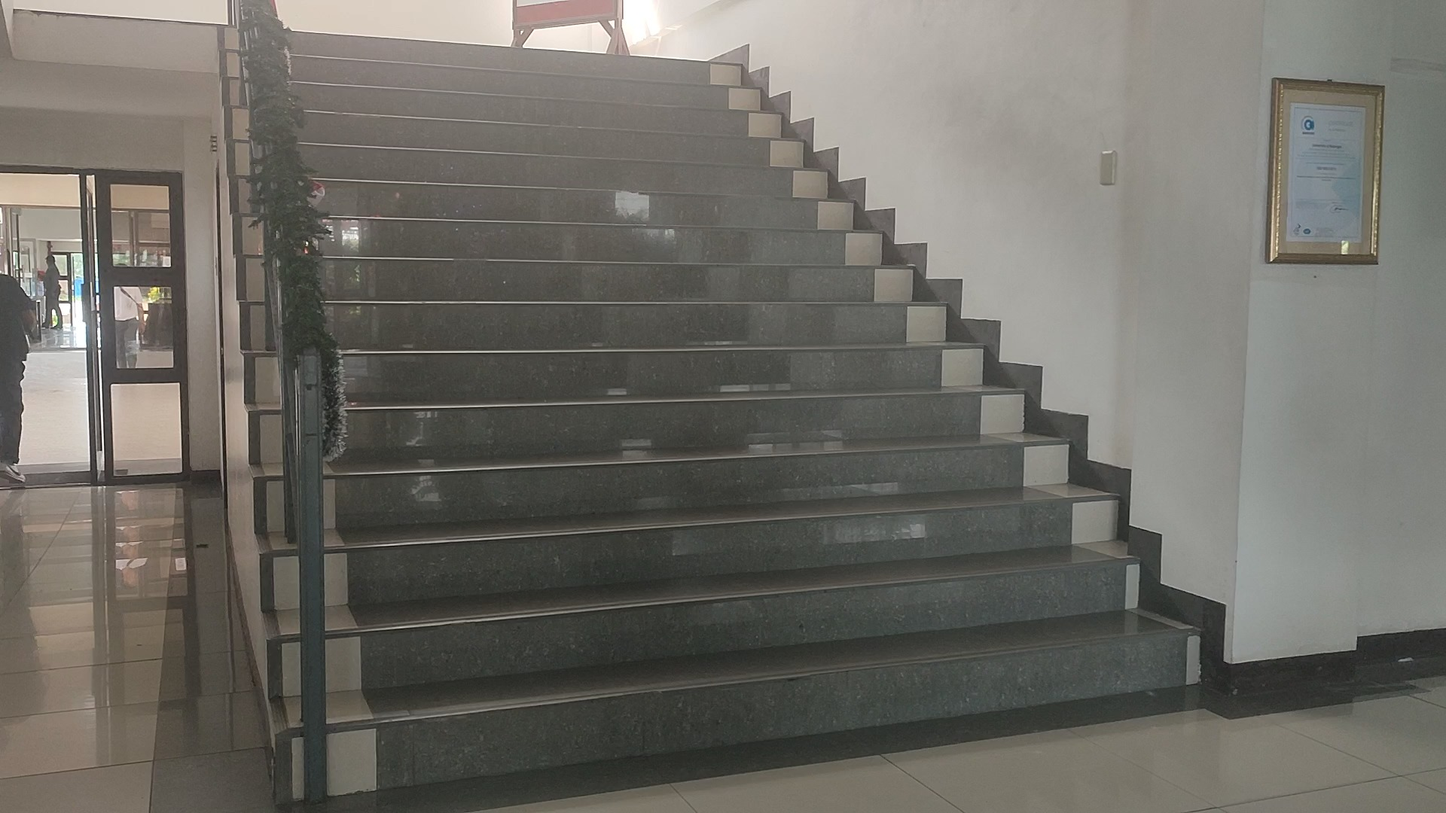Staircase: (233, 0, 1191, 794)
